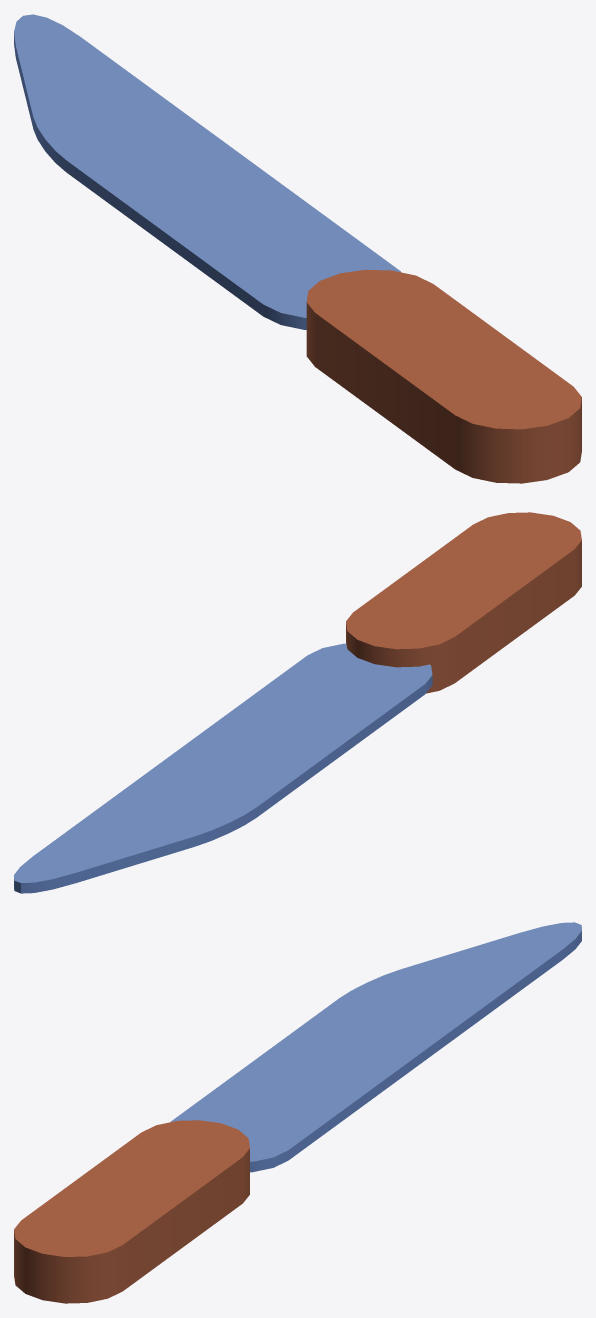
File: Knife B.fbx
3 views of the same model, one above another, from view 1: azimuth 30°, elevation 25°; view 2: azimuth 150°, elevation 25°; view 3: azimuth 330°, elevation 25° (orthographic). The views are drawn at different scales.
Visible parts, largest first — view 1: Knife.003; view 2: Knife.003; view 3: Knife.003.
Boxes of the visible parts, x1,y1,x2,y2 form: Knife.003: (14, 14, 581, 483); Knife.003: (14, 512, 581, 893); Knife.003: (14, 922, 581, 1303).
Size of the model in its own units: 0.1129 by 0.0426 by 0.8166.
